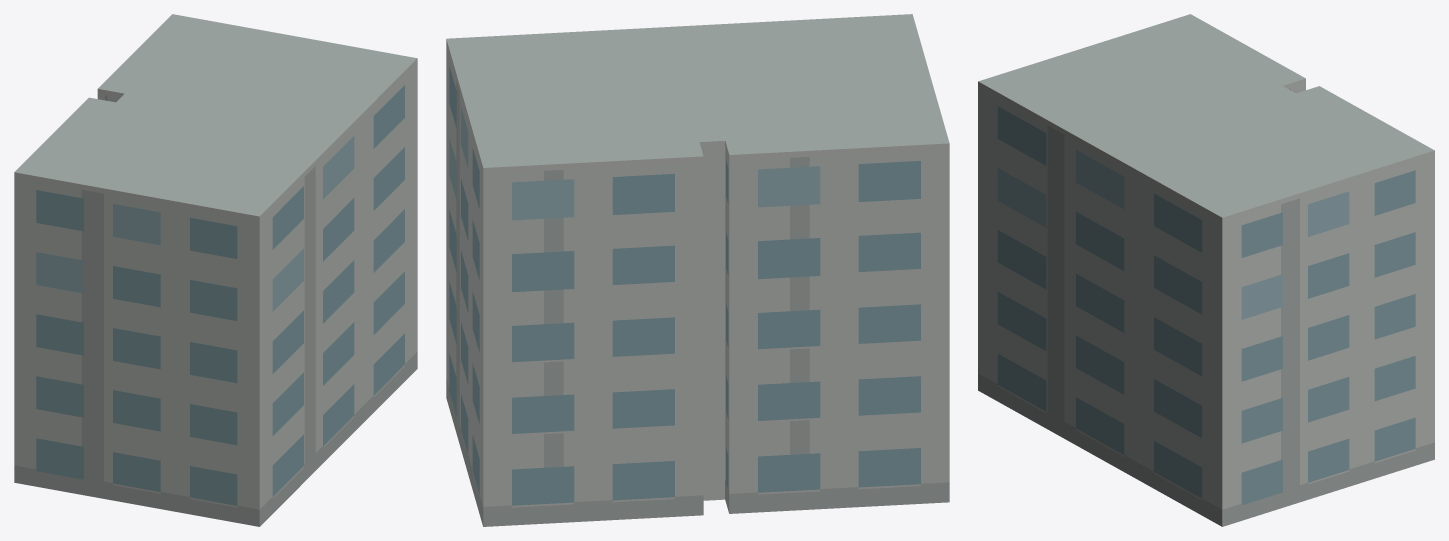
File: survey-upis-32721777.glb
3 renders of one model, left to right at view 1: azimuth 30°, elevation 25°; view 2: azimuth 150°, elevation 25°; view 3: azimuth 270°, elevation 25°, orthographic. The views are drawn at different scales.
Parts seen in each view (by area): view 1: survey-upis-32721777.tmp; view 2: survey-upis-32721777.tmp; view 3: survey-upis-32721777.tmp.
Boxes of the visible parts, x1,y1,x2,y2 form: survey-upis-32721777.tmp: [14, 14, 417, 526]; survey-upis-32721777.tmp: [446, 14, 949, 526]; survey-upis-32721777.tmp: [978, 14, 1434, 526].
Size of the model in its own units: 20.65 by 14.6 by 19.56.
